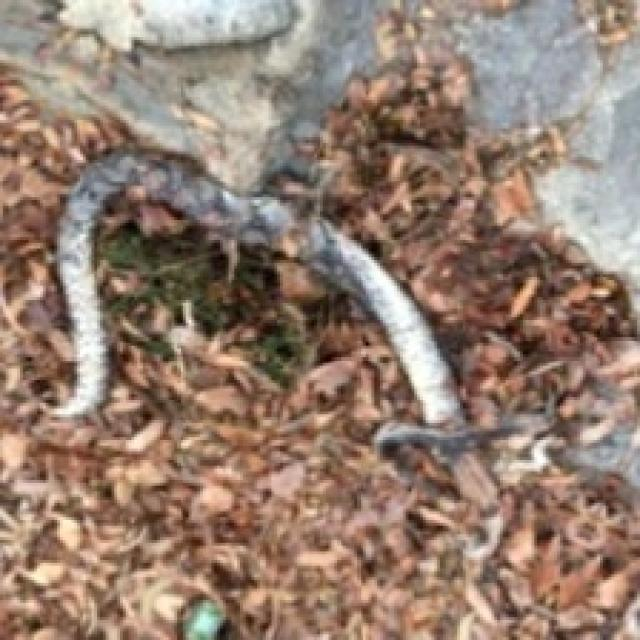reticulated python: (54, 151, 294, 414), (309, 220, 463, 423)
